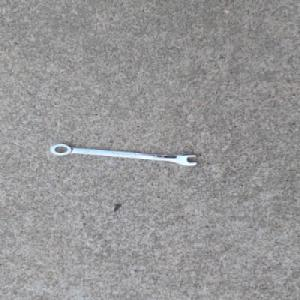Wrench: (48, 142, 199, 167)
